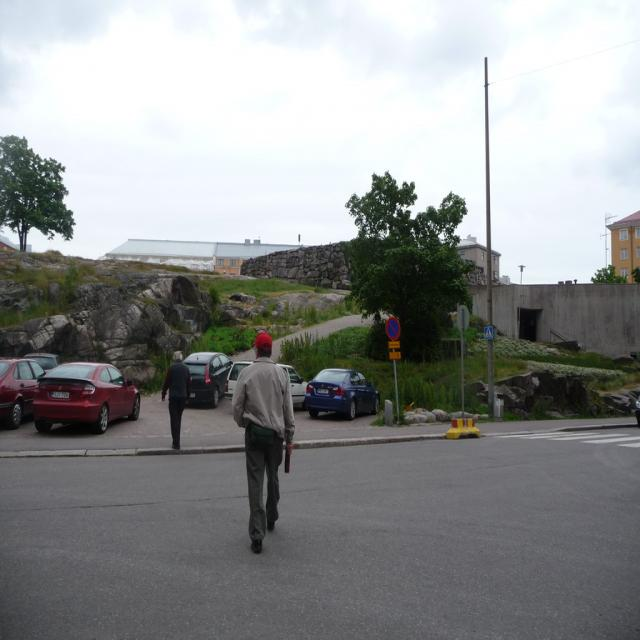other: (9, 362, 135, 436), (225, 361, 309, 410), (305, 370, 381, 420), (0, 357, 43, 430), (182, 350, 234, 407), (28, 353, 61, 375)
